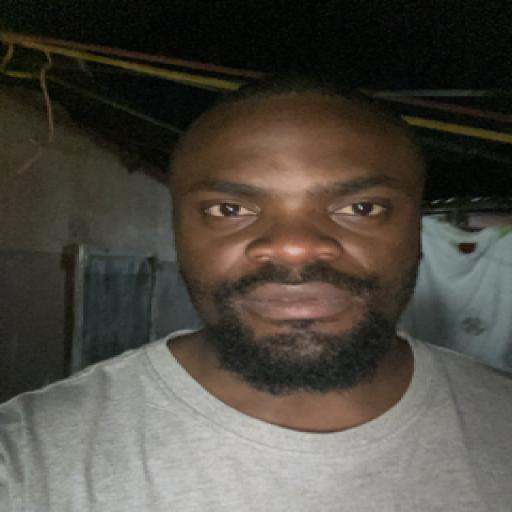JEANLUC: (190, 66, 428, 404)
